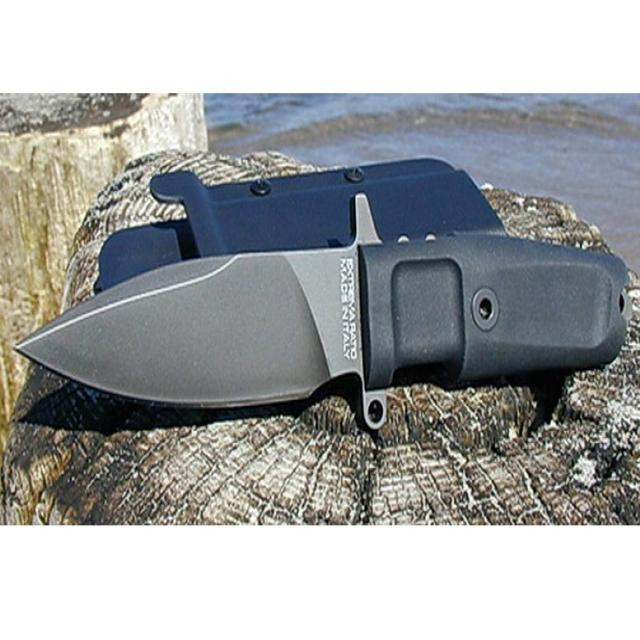knife: (7, 183, 635, 443)
